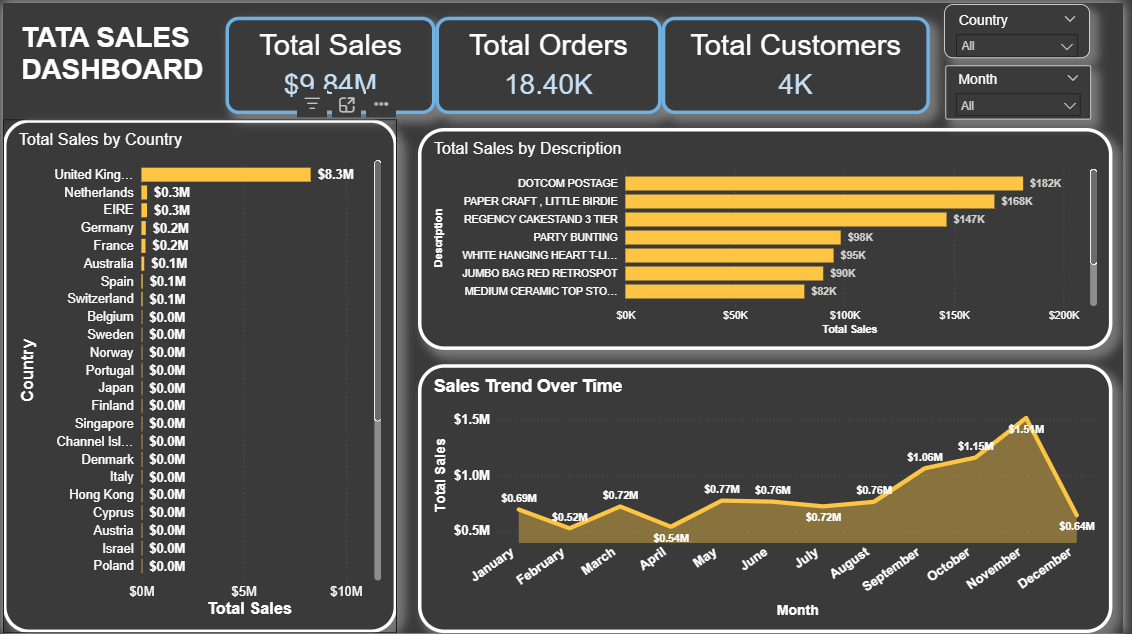

Layout of this report page (visuals, bound fields, positions):
{"tool":"powerbi","page":{"name":"Dashboard","canvas":[1280,720],"ordinal":0},"visuals":[{"type":"cardVisual","fields":{"Data":["Sum(Online Retail.Revenue)"]},"box":[253.8,16.2,240,111.2],"z":0},{"type":"cardVisual","fields":{"Data":["Online Retail.Total Orders"]},"box":[493.8,15,258.8,111.2],"z":1000},{"type":"cardVisual","fields":{"Data":["Online Retail.Total Customers"]},"box":[752.5,15,306.2,111.2],"z":2000},{"type":"lineChart","title":"Sales Trend Over Time","fields":{"Category":["Online Retail.InvoiceDate.Variation.Date Hierarchy.Month"],"Y":["Sum(Online Retail.Total Sales)"]},"box":[473.8,412.5,793.8,307.5],"z":3000},{"type":"clusteredBarChart","fields":{"Category":["Online Retail.Country"],"Y":["Sum(Online Retail.Total Sales)"]},"box":[0,132.5,450,587.5],"z":4000},{"type":"clusteredBarChart","fields":{"Category":["Online Retail.Description"],"Y":["Sum(Online Retail.Total Sales)"]},"box":[473.8,142.5,793.8,253.8],"z":5000},{"type":"slicer","fields":{"Values":["Online Retail.Country"]},"box":[1076.2,1.2,166.2,61.2],"z":6000},{"type":"slicer","fields":{"Values":["Online Retail.InvoiceDate.Variation.Date Hierarchy.Month"]},"box":[1077.5,71.2,166.2,61.2],"z":7000},{"type":"textbox","box":[16.2,17.5,225,115],"z":8000}]}

Visuals, with their boxes in screenshot pixels (x1, y1, x2, y2), scaled from the page's 1280x720 canvas onto the 1132x634 screenshot:
cardVisual - Sum(Online Retail.Revenue): {"left": 224, "top": 14, "right": 437, "bottom": 112}
cardVisual - Online Retail.Total Orders: {"left": 437, "top": 13, "right": 666, "bottom": 111}
cardVisual - Online Retail.Total Customers: {"left": 665, "top": 13, "right": 936, "bottom": 111}
"Sales Trend Over Time" lineChart: {"left": 419, "top": 363, "right": 1121, "bottom": 633}
clusteredBarChart - Online Retail.Country x Sum(Online Retail.Total Sales): {"left": 0, "top": 117, "right": 398, "bottom": 633}
clusteredBarChart - Online Retail.Description x Sum(Online Retail.Total Sales): {"left": 419, "top": 125, "right": 1121, "bottom": 349}
slicer - Online Retail.Country: {"left": 952, "top": 1, "right": 1099, "bottom": 55}
slicer - Online Retail.InvoiceDate.Variation.Date Hierarchy.Month: {"left": 953, "top": 63, "right": 1100, "bottom": 117}
textbox: {"left": 14, "top": 15, "right": 213, "bottom": 117}
